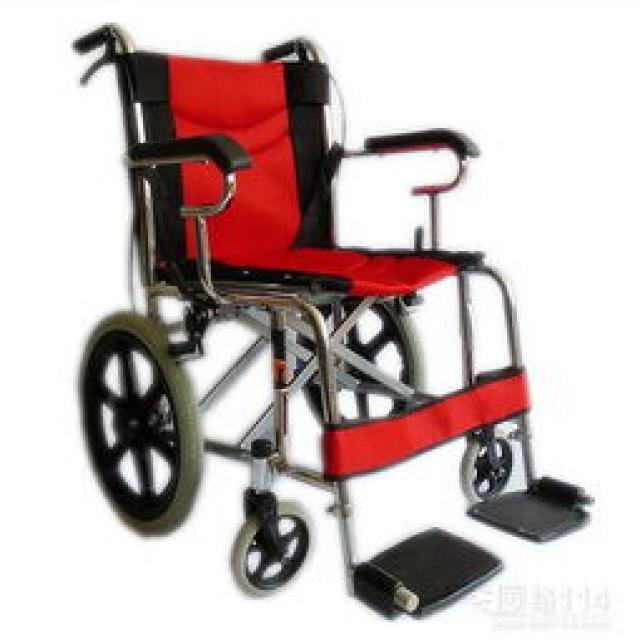wheelchairs: (75, 26, 593, 616)
